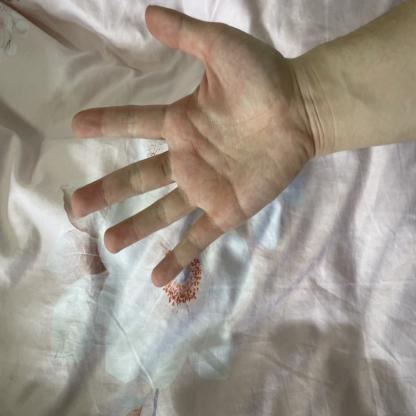bare_hand: (40, 0, 336, 311)
